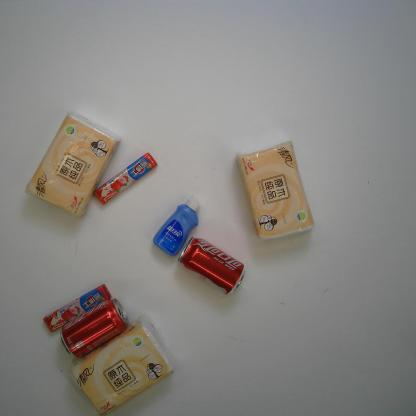Candy: (42, 284, 112, 334), (93, 152, 158, 205)
Drink: (59, 298, 129, 360), (176, 236, 245, 296)
Personal Hygiene: (152, 196, 200, 257)
Tissue: (67, 313, 175, 416), (24, 110, 122, 218), (234, 140, 316, 242)
